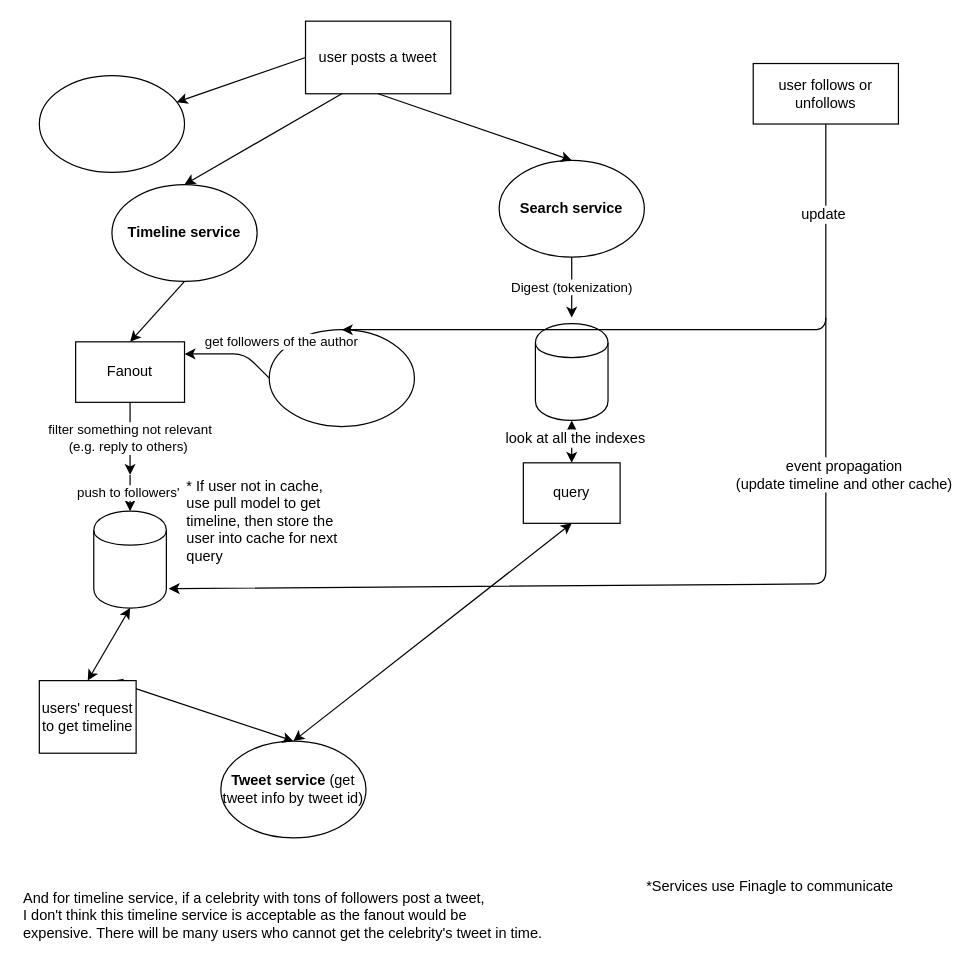
Image size: 973x963. Some labels were removed from this diagram. Here are the shapes that lost their labels. From the top down, the centre of each, then its label:
At point 111,123: "HTTP push / Mobile push".
At point 341,378: "Social graph service".
At point 571,371: "search index".
At point 129,559: "Redis cache".
